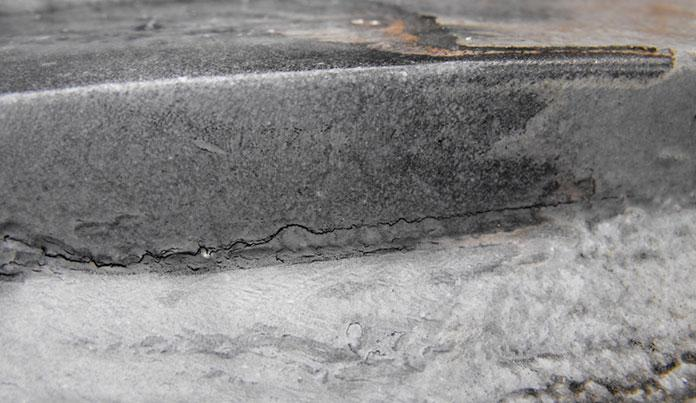crack: (9, 221, 306, 259), (314, 216, 591, 242), (471, 200, 597, 213)
